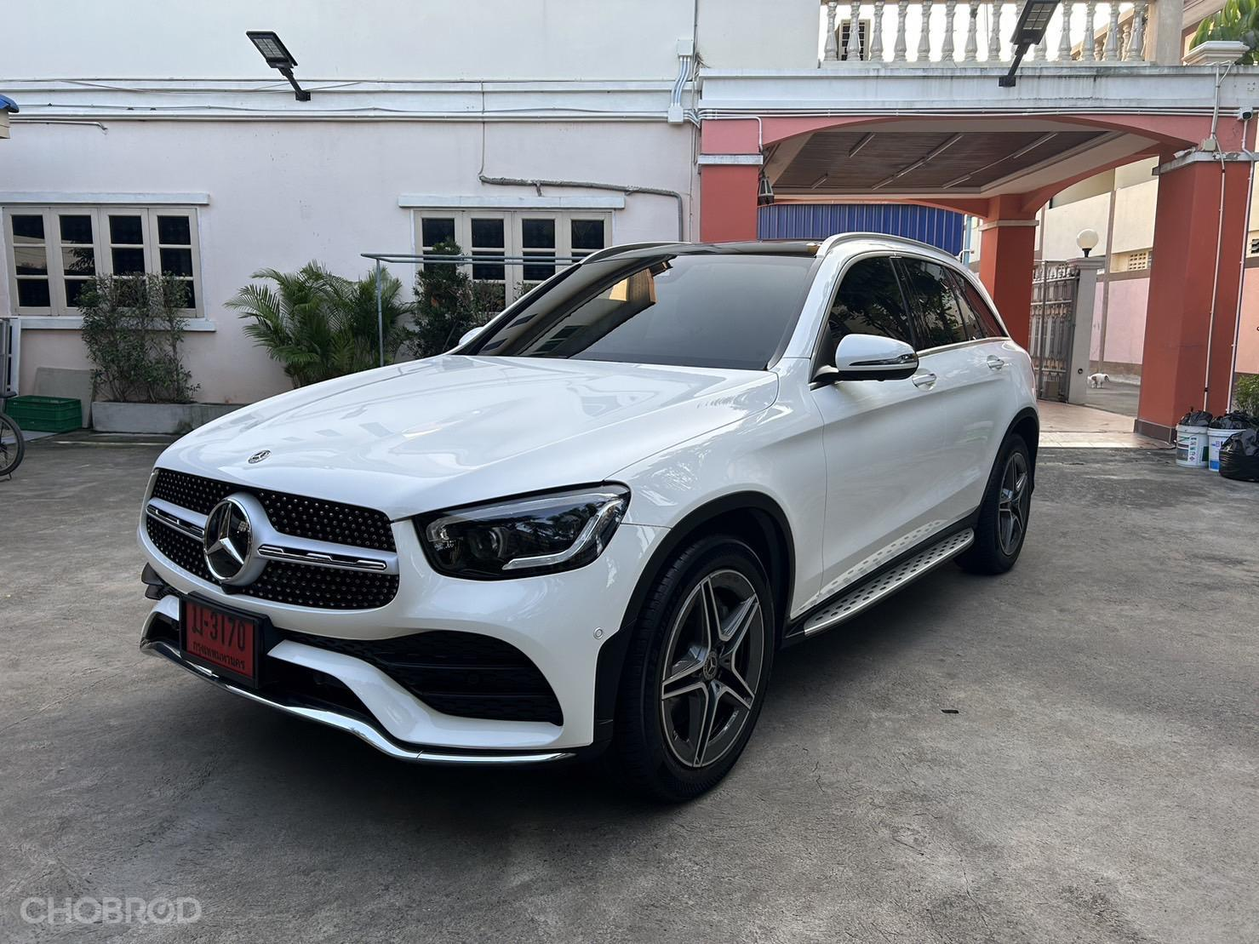license-plate: (181, 591, 261, 692)
